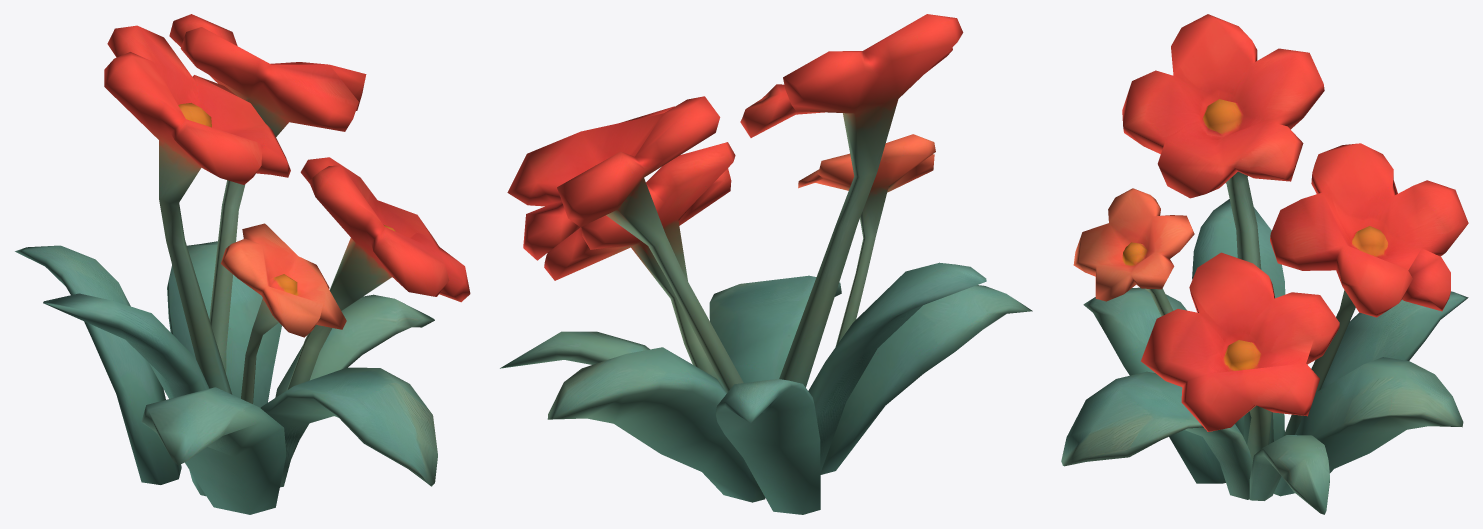
The picture shows the model from 3 angles, left to right: view 1: azimuth 30°, elevation 25°; view 2: azimuth 150°, elevation 25°; view 3: azimuth 270°, elevation 25°; orthographic projection. The views are drawn at different scales.
Parts seen in each view (by area): view 1: tripo_node_274b7e71-1806-4acd-bdaa-11f6dcb9a3a2; view 2: tripo_node_274b7e71-1806-4acd-bdaa-11f6dcb9a3a2; view 3: tripo_node_274b7e71-1806-4acd-bdaa-11f6dcb9a3a2.
Part boxes in pixels (x1,y1,x2,y2): tripo_node_274b7e71-1806-4acd-bdaa-11f6dcb9a3a2: [15, 14, 470, 514]; tripo_node_274b7e71-1806-4acd-bdaa-11f6dcb9a3a2: [500, 14, 1032, 514]; tripo_node_274b7e71-1806-4acd-bdaa-11f6dcb9a3a2: [1061, 14, 1468, 514].
Bounding box in the file's own units: 0.9668 × 0.998 × 0.9004.
Materials: 1 (1 with a texture image).
